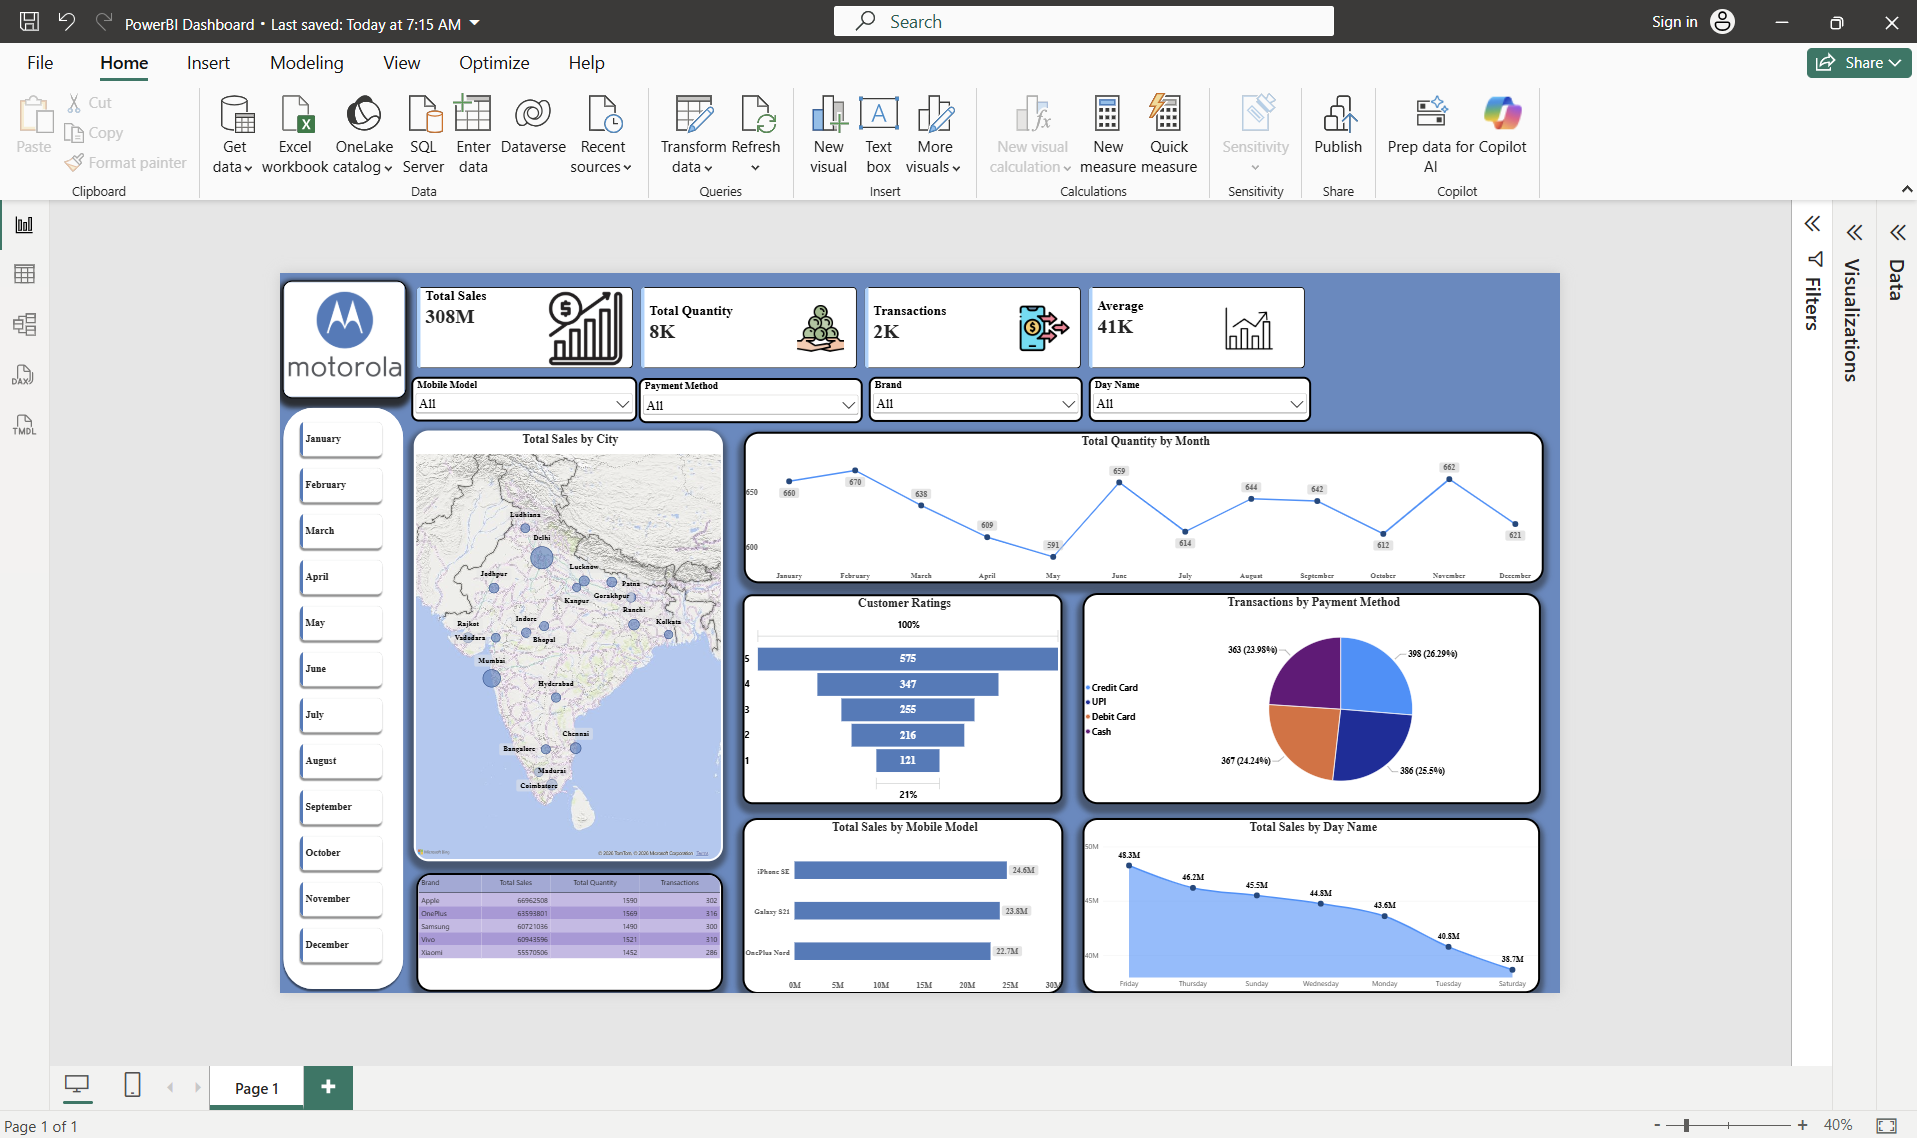

The dashboard page shown, as its layout file describes it:
{"tool":"powerbi","page":{"name":"Page 1","canvas":[2560,1440],"ordinal":0},"visuals":[{"type":"shape","box":[5.4,16.1,248.2,235.7],"z":0},{"type":"image","box":[17.9,0,225,244.6],"z":1000},{"type":"shape","box":[0,263.3,253.3,1176.7],"z":2000},{"type":"advancedSlicerVisual","fields":{"Values":["Sales_Data.Date.Variation.Date Hierarchy.Month"]},"box":[33.3,290,180,1100],"z":3000},{"type":"cardVisual","fields":{"Data":["Sales_Data.Total Sales","Sales_Data.Total Quantity","Sales_Data.Transactions","Sales_Data.Average"]},"box":[263.3,16.7,1800,183.3],"z":4000},{"type":"map","fields":{"Category":["Sales_Data.City"],"Size":["Sales_Data.Total Sales"]},"box":[268.3,315,618.3,861.7],"z":5000},{"type":"lineChart","fields":{"Category":["Sales_Data.Date.Variation.Date Hierarchy.Month","Sales_Data.Date.Variation.Date Hierarchy.Day"],"Y":["Sales_Data.Total Quantity"]},"box":[926.7,316.7,1600,303.3],"z":6000},{"type":"clusteredBarChart","fields":{"Category":["Sales_Data.Mobile Model"],"Y":["Sales_Data.Total Sales"]},"box":[924.1,1089.7,641.4,351.7],"z":7000},{"type":"pieChart","fields":{"Category":["Sales_Data.Payment Method"],"Y":["Sales_Data.Transactions"]},"box":[1605.6,638.9,916.7,422.2],"z":8000},{"type":"funnel","title":"Customer Ratings","fields":{"Category":["Sales_Data.Customer Ratings"],"Y":["CountNonNull(Sales_Data.Customer Ratings)"]},"box":[924.1,641.4,640,420],"z":9000},{"type":"areaChart","fields":{"Category":["Sales_Data.Day Name"],"Y":["Sales_Data.Total Sales"]},"box":[1605,1090,915,350],"z":10000},{"type":"tableEx","fields":{"Values":["Sales_Data.Brand","Sales_Data.Total Sales","Sales_Data.Total Quantity","Sales_Data.Transactions"]},"box":[272.4,1200,613.8,237.9],"z":11000},{"type":"slicer","fields":{"Values":["Sales_Data.Mobile Model"]},"box":[262.1,206.9,451.7,89.7],"z":11001},{"type":"slicer","fields":{"Values":["Sales_Data.Payment Method"]},"box":[716.7,210,448.3,90],"z":11002},{"type":"slicer","fields":{"Values":["Sales_Data.Brand"]},"box":[1176.7,208.3,428.3,90],"z":11003},{"type":"slicer","fields":{"Values":["Sales_Data.Day Name"]},"box":[1618.3,206.7,445,90],"z":11004}]}

Visuals, with their boxes on the page's 2560x1440 design canvas (x1, y1, x2, y2). These are canvas units, not pixel positions in the 1917x1138 screenshot, which may show the page scaled, cropped or inside an application window:
shape: {"x1": 5, "y1": 16, "x2": 254, "y2": 252}
image: {"x1": 18, "y1": 0, "x2": 243, "y2": 245}
shape: {"x1": 0, "y1": 263, "x2": 253, "y2": 1440}
advancedSlicerVisual - Sales_Data.Date.Variation.Date Hierarchy.Month: {"x1": 33, "y1": 290, "x2": 213, "y2": 1390}
cardVisual - Sales_Data.Total Sales x Sales_Data.Total Quantity: {"x1": 263, "y1": 17, "x2": 2063, "y2": 200}
map - Sales_Data.City x Sales_Data.Total Sales: {"x1": 268, "y1": 315, "x2": 887, "y2": 1177}
lineChart - Sales_Data.Date.Variation.Date Hierarchy.Month x Sales_Data.Date.Variation.Date Hierarchy.Day: {"x1": 927, "y1": 317, "x2": 2527, "y2": 620}
clusteredBarChart - Sales_Data.Mobile Model x Sales_Data.Total Sales: {"x1": 924, "y1": 1090, "x2": 1566, "y2": 1441}
pieChart - Sales_Data.Payment Method x Sales_Data.Transactions: {"x1": 1606, "y1": 639, "x2": 2522, "y2": 1061}
"Customer Ratings" funnel: {"x1": 924, "y1": 641, "x2": 1564, "y2": 1061}
areaChart - Sales_Data.Day Name x Sales_Data.Total Sales: {"x1": 1605, "y1": 1090, "x2": 2520, "y2": 1440}
tableEx - Sales_Data.Brand x Sales_Data.Total Sales: {"x1": 272, "y1": 1200, "x2": 886, "y2": 1438}
slicer - Sales_Data.Mobile Model: {"x1": 262, "y1": 207, "x2": 714, "y2": 297}
slicer - Sales_Data.Payment Method: {"x1": 717, "y1": 210, "x2": 1165, "y2": 300}
slicer - Sales_Data.Brand: {"x1": 1177, "y1": 208, "x2": 1605, "y2": 298}
slicer - Sales_Data.Day Name: {"x1": 1618, "y1": 207, "x2": 2063, "y2": 297}
